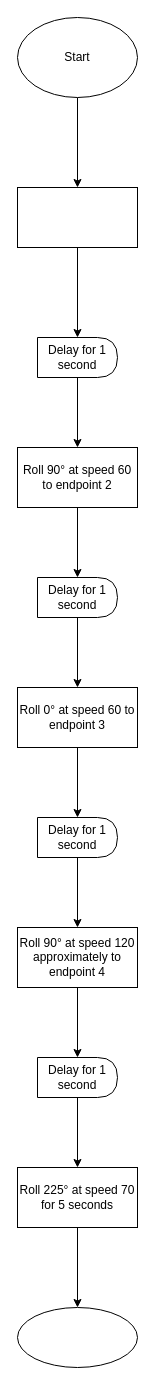
Some shapes in this 155 by 1385 pixel diagram are drawn without their labels. The centre of each missing label's shape, as x and y in pixels:
"End" belongs at [77,1337].
"Roll 0° at speed 60 to endpoint 1" belongs at [77,217].
